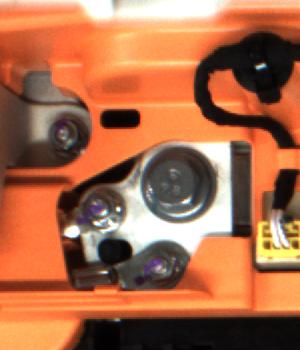nut_b: (132, 137, 223, 223)
